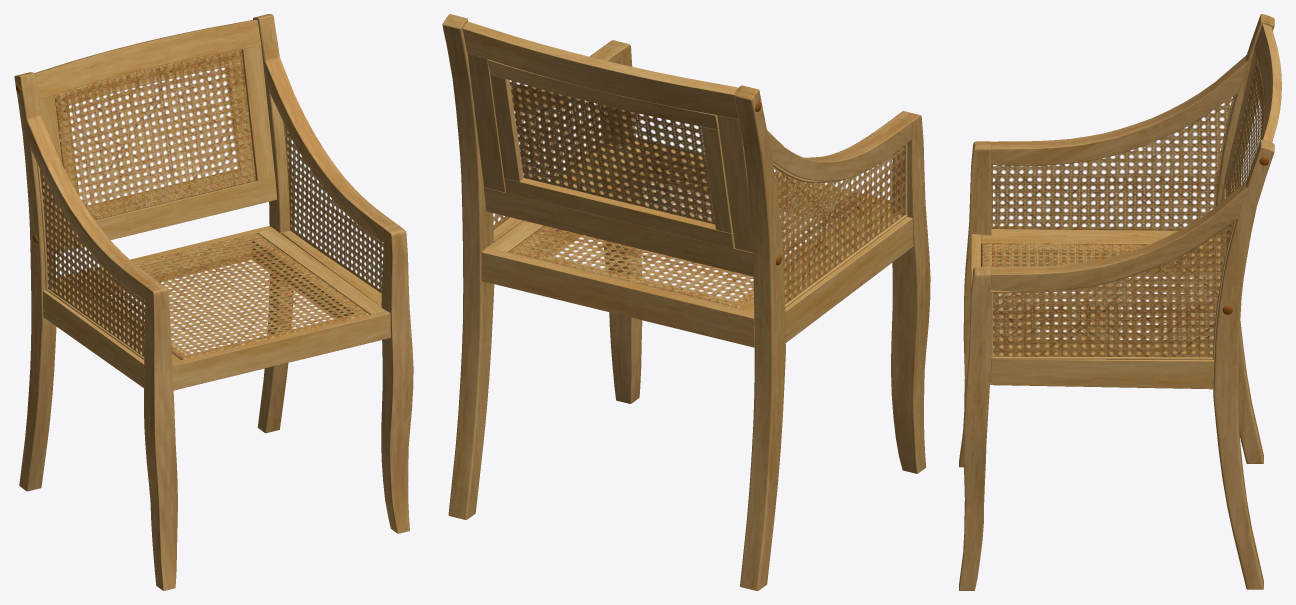
3 views of the same model, side by side, from view 1: azimuth 30°, elevation 25°; view 2: azimuth 150°, elevation 25°; view 3: azimuth 270°, elevation 25° (orthographic). The views are drawn at different scales.
Visible parts, largest first — view 1: RootNode; view 2: RootNode; view 3: RootNode.
Boxes of the visible parts, left/top/right/bottom form: RootNode: left=14, top=14, right=413, bottom=590; RootNode: left=442, top=14, right=930, bottom=590; RootNode: left=959, top=14, right=1281, bottom=590.
Size of the model in its own units: 0.5588 by 0.8509 by 0.5588.
Materials: 1 (1 with a texture image).
